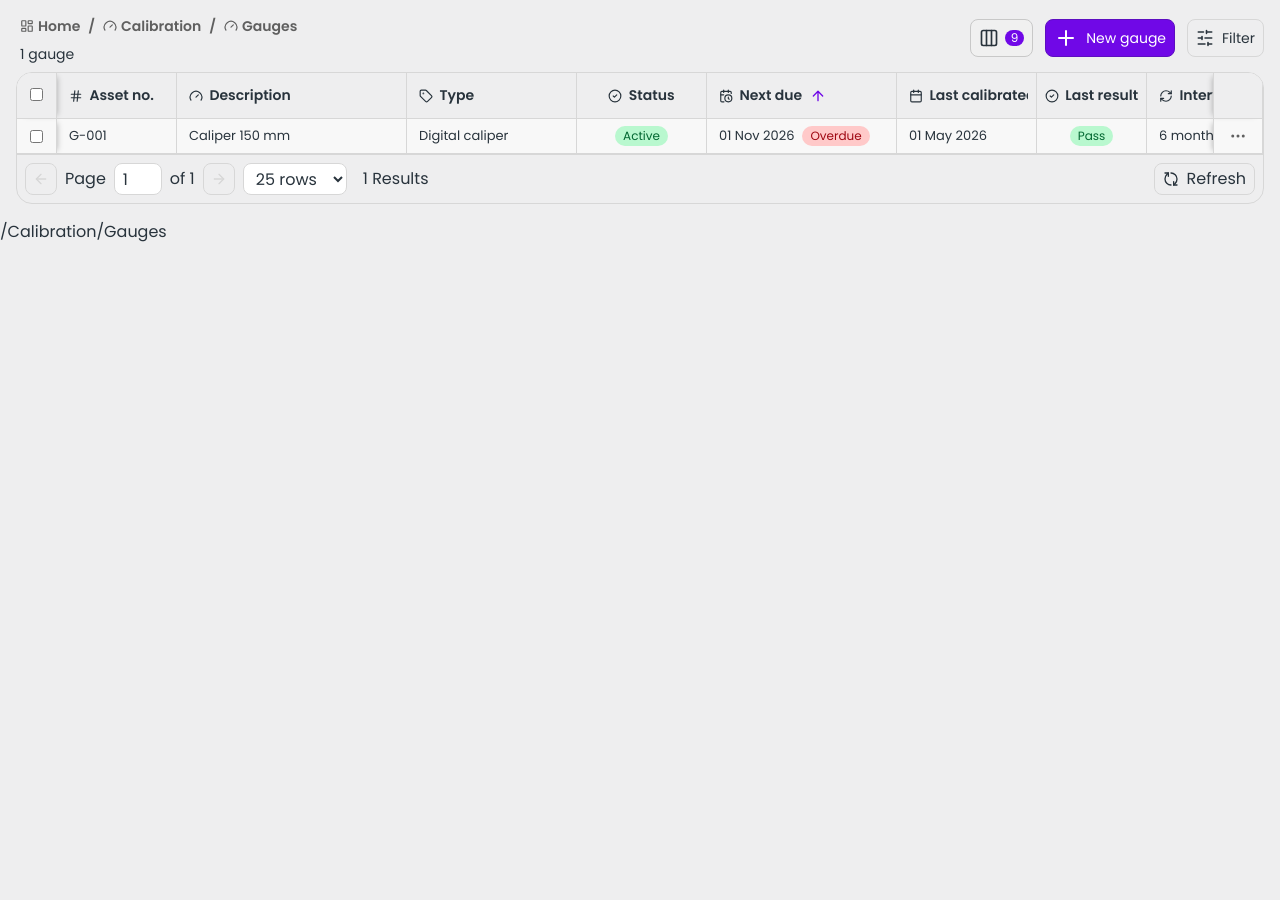
Test case: gauge register › lists gauges, filters from the drawer and offers row actions
This screenshot has width=1280, height=900.
Expected: the text "G-001" is shown, [69,126,107,145]
Expected: the text "Overdue" is shown, [802,126,870,146]
Click the button "Filter" at (1226, 38), box [1187,19,1264,57]
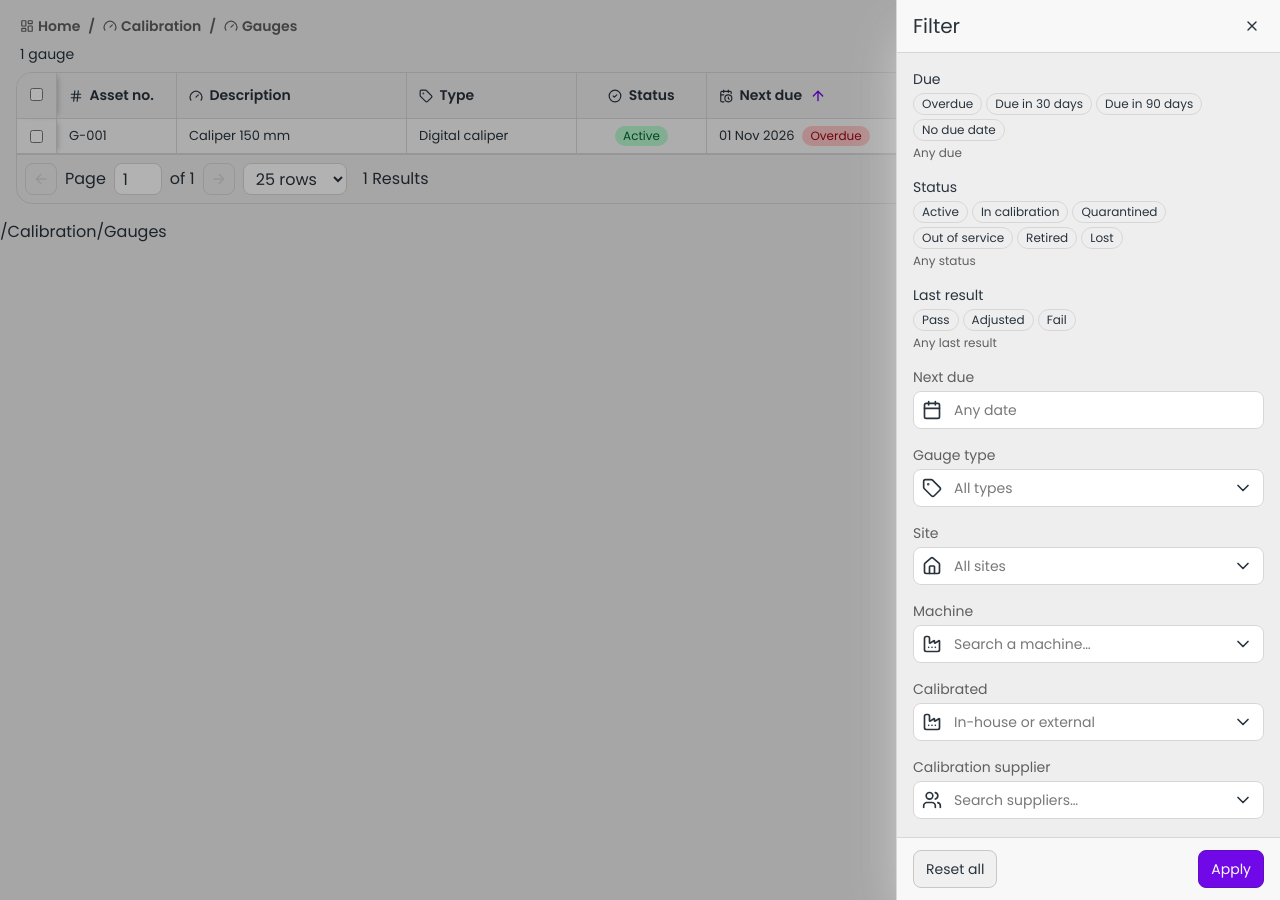
Click the checkbox "Overdue" at (948, 104), box [913,93,982,115]
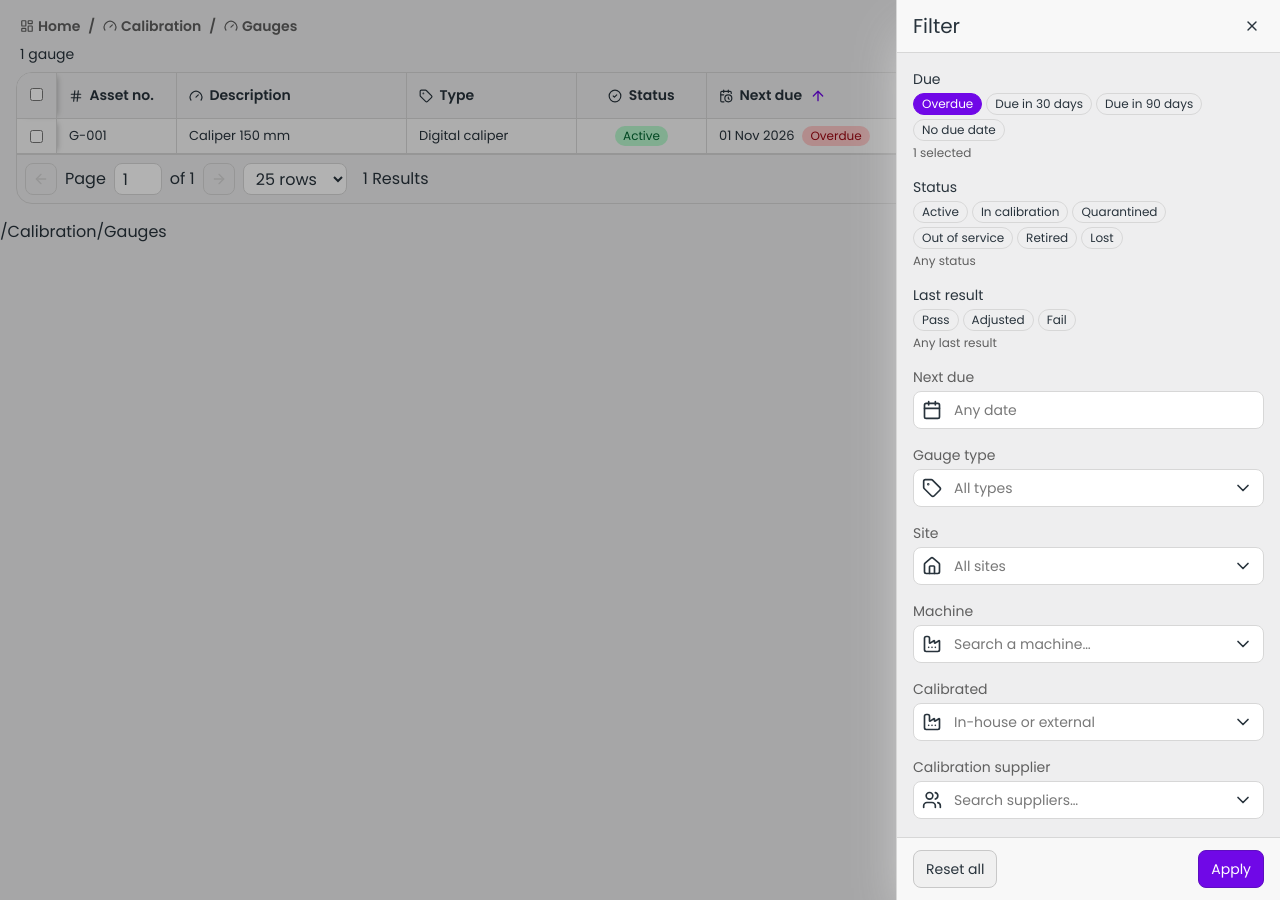
Click the checkbox "Quarantined" at (1119, 212), box [1072,201,1166,223]
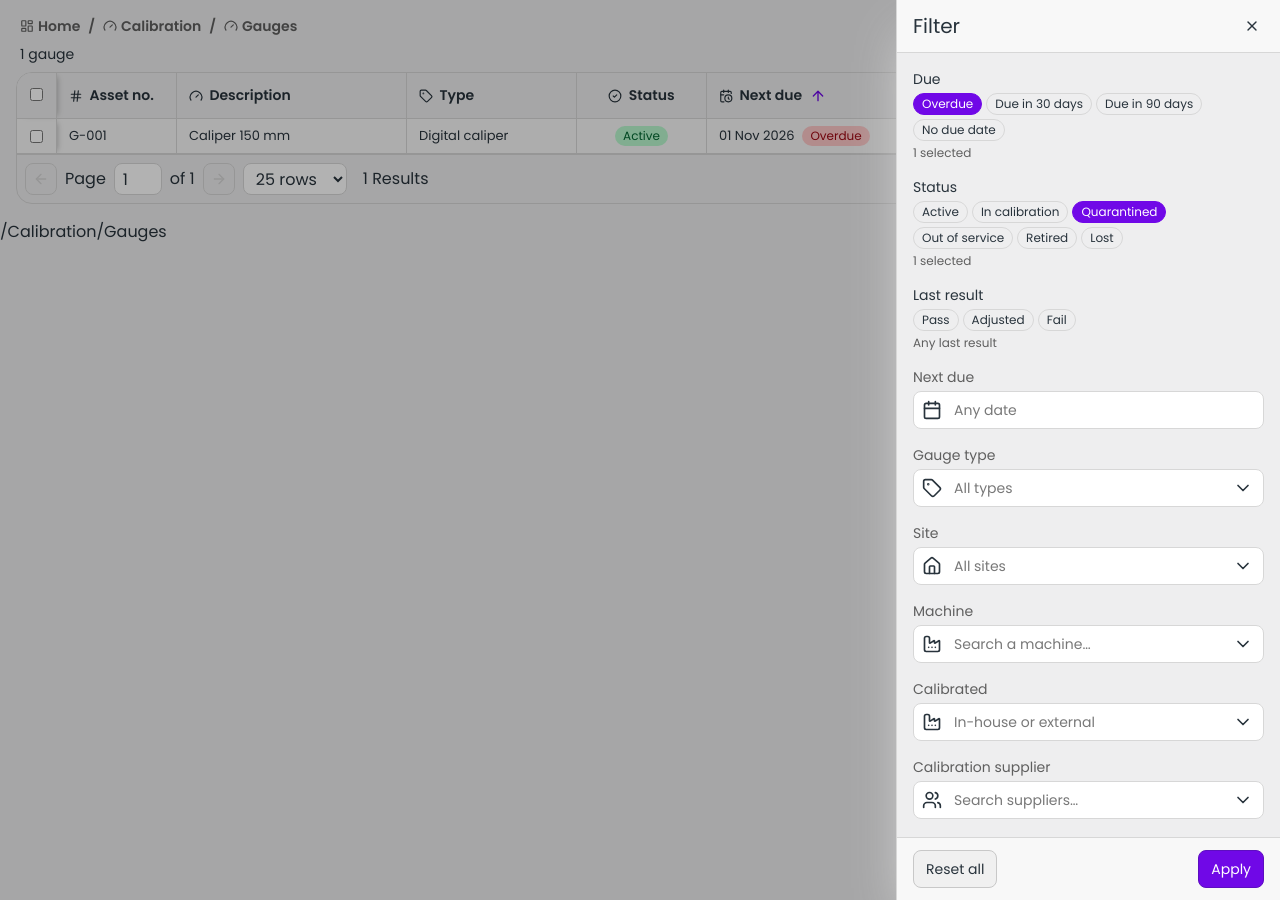
Click the button "Apply" at (1231, 869), box [1198,850,1264,888]
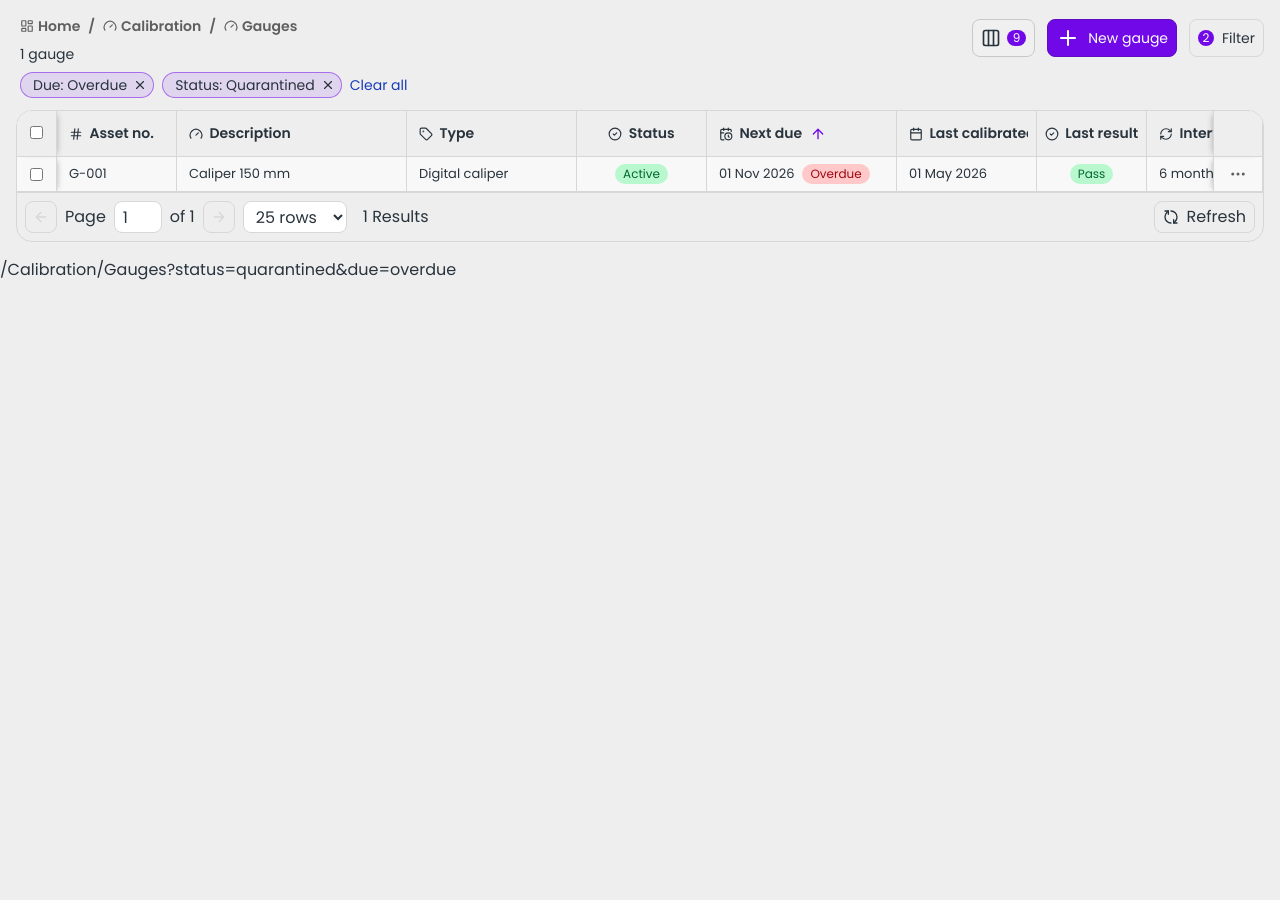
Expected: the button named "Remove filter Due: Overdue" is shown, [131,76,149,94]
Click the button named "Actions" at (1238, 174), box [1225,161,1251,187]
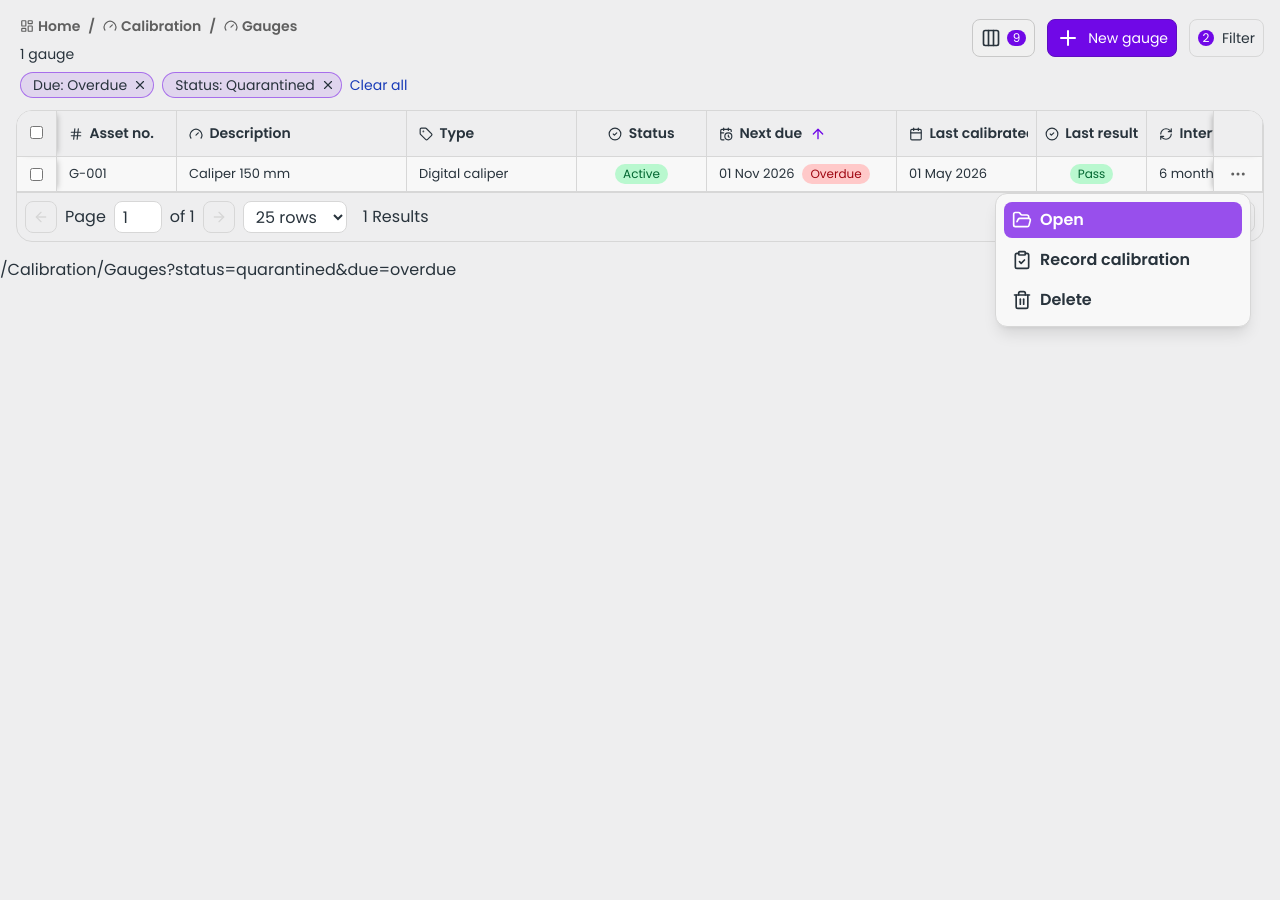
Click the menu item "Record calibration" at (1123, 260), box [1004,242,1242,278]
(page scrolled)
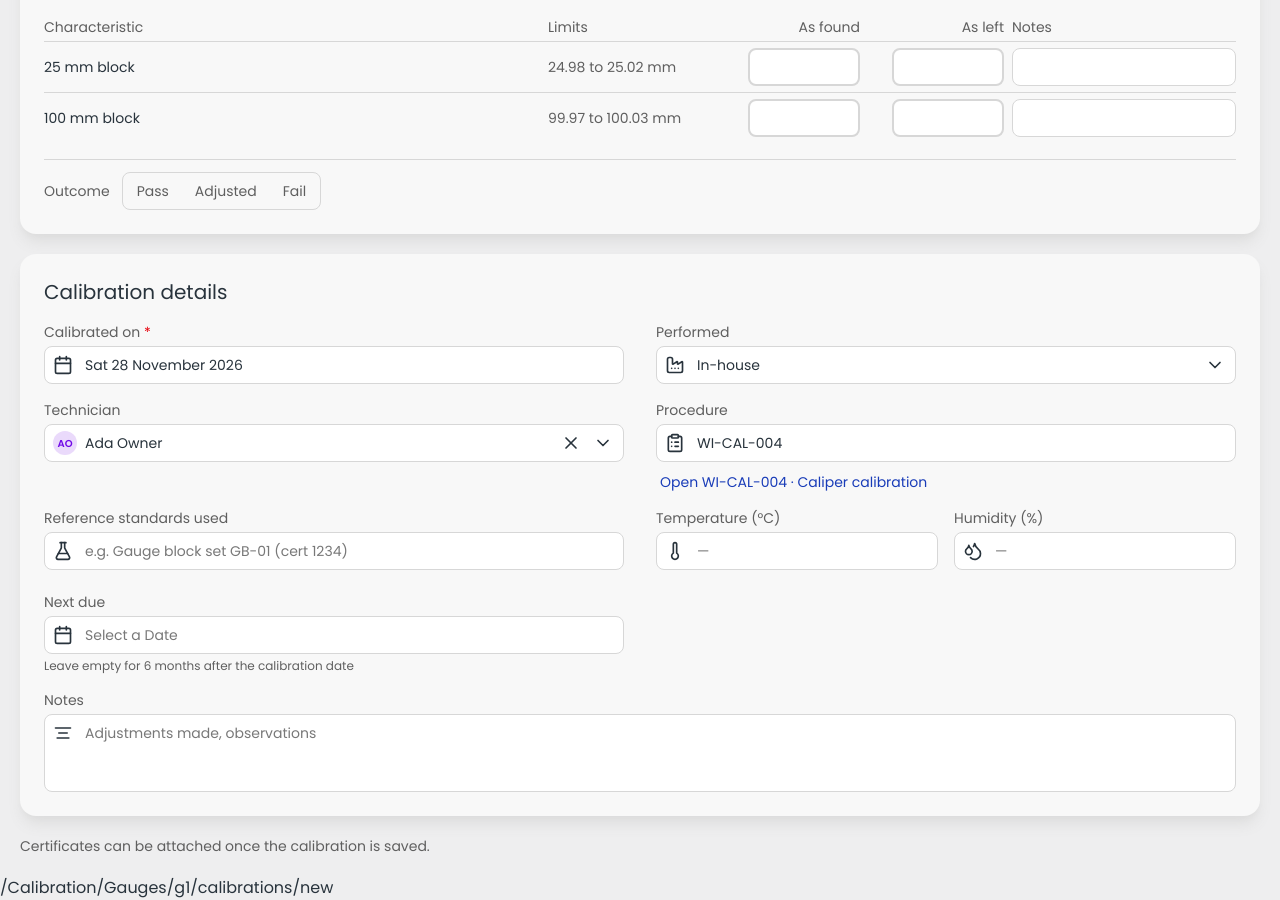
Expected: the text with test id "where" reads "/Calibration/Gauges/g1/calibrations/new", [0,876,333,899]
